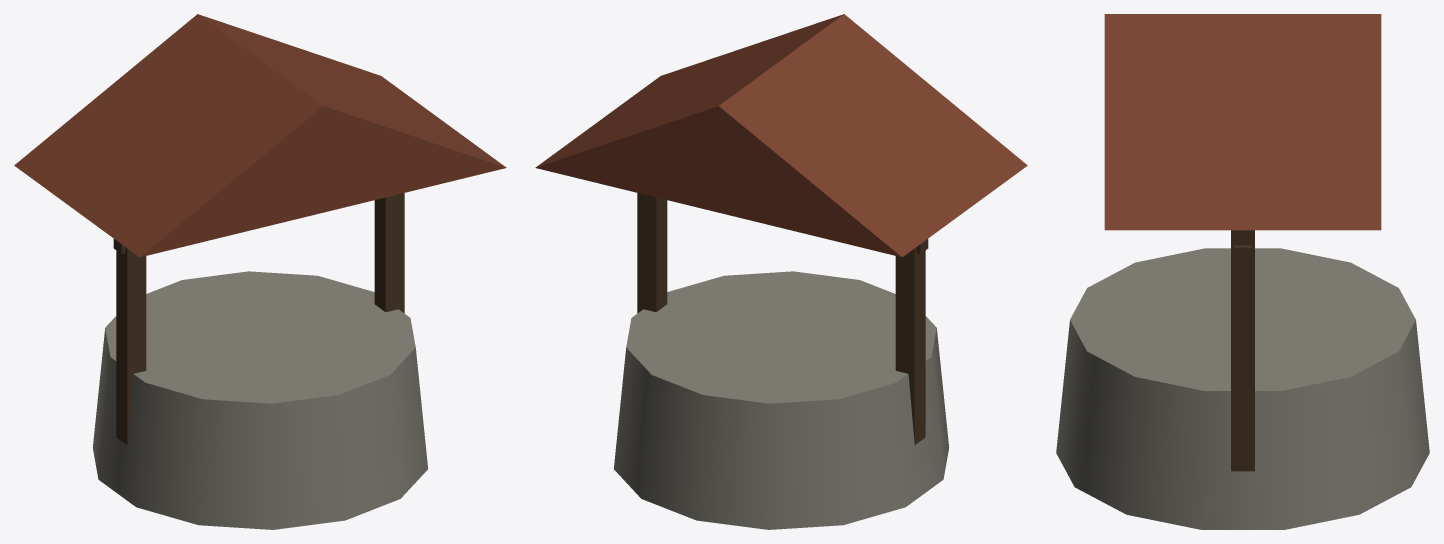
The picture shows the model from 3 angles, left to right: view 1: azimuth 30°, elevation 25°; view 2: azimuth 150°, elevation 25°; view 3: azimuth 270°, elevation 25°; orthographic projection. The views are drawn at different scales.
Parts seen in each view (by area): view 1: alpine-body; view 2: alpine-body; view 3: alpine-body.
Boxes of the visible parts, bbox=[...] form: alpine-body: bbox=[14, 14, 506, 529]; alpine-body: bbox=[535, 14, 1027, 529]; alpine-body: bbox=[1056, 14, 1429, 529].
Bounding box in the file's own units: 2.7 × 2.8 × 2.16.
